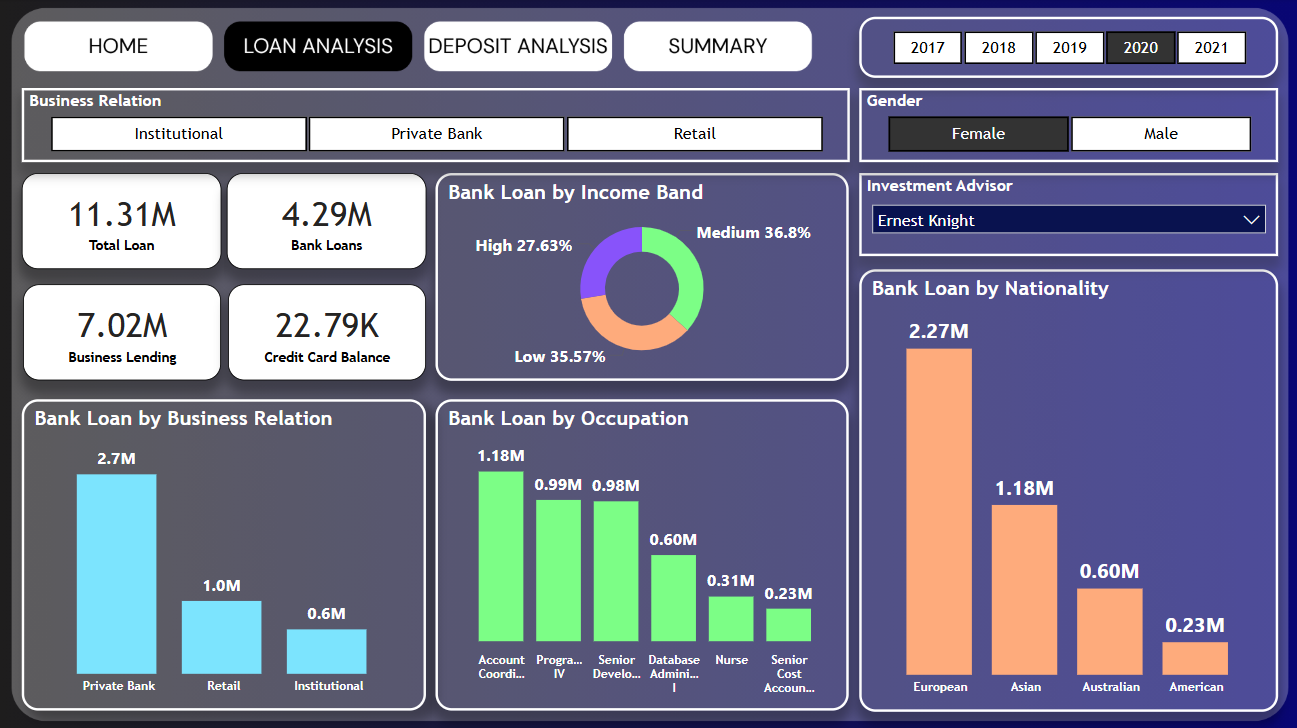

Layout of this report page (visuals, bound fields, positions):
{"tool":"powerbi","page":{"name":"Loan Analysis","canvas":[1280,720],"ordinal":1},"visuals":[{"type":"card","fields":{"Values":["Measures Table.Total Loan"]},"box":[22.9,171.4,195.7,94.3],"z":0},{"type":"card","fields":{"Values":["Sum(Banking.Business Lending)"]},"box":[24.3,281.4,194.3,94.3],"z":1000},{"type":"card","fields":{"Values":["Sum(Banking.Bank Loans)"]},"box":[224.3,171.4,195.7,94.3],"z":2000},{"type":"card","fields":{"Values":["Sum(Banking.Credit Card Balance)"]},"box":[225.7,281.4,194.3,94.3],"z":3000},{"type":"donutChart","title":"Bank Loan by Income Band","fields":{"Category":["Banking.Income Band"],"Y":["Sum(Banking.Bank Loans)"]},"box":[430,171.4,405.7,204.3],"z":4000},{"type":"clusteredColumnChart","title":"Bank Loan by Business Relation","fields":{"Y":["Sum(Banking.Bank Loans)"],"Category":["Banking.BRId"]},"box":[22.9,394.3,397.1,305.7],"z":5000},{"type":"clusteredColumnChart","title":"Bank Loan by Nationality","fields":{"Y":["Sum(Banking.Bank Loans)"],"Category":["Banking.Nationality"]},"box":[845.7,265.7,411.4,434.3],"z":6000},{"type":"clusteredColumnChart","title":"Bank Loan by Occupation","fields":{"Y":["Sum(Banking.Bank Loans)"],"Category":["Banking.Occupation"]},"box":[430,394.3,405.7,305.7],"z":7000},{"type":"slicer","title":"Business Relation","fields":{"Values":["Banking.BRId"]},"box":[22.9,88.6,812.9,72.9],"z":8000},{"type":"slicer","title":"Investment Advisor","fields":{"Values":["Banking.IAId"]},"box":[845.7,171.4,411.4,81.4],"z":9000},{"type":"slicer","fields":{"Values":["Banking.Year of Joining"]},"box":[845.7,18.6,411.4,60],"z":10000},{"type":"slicer","title":"Gender","fields":{"Values":["Banking.GenderId"]},"box":[845.7,88.6,411.4,72.9],"z":11000},{"type":"actionButton","box":[24.3,28.6,181.4,40],"z":12000},{"type":"actionButton","box":[225.7,28.6,181.4,40],"z":13000},{"type":"actionButton","box":[420,28.6,181.4,40],"z":14000},{"type":"actionButton","box":[615.7,28.6,181.4,40],"z":15000}]}

Visuals, with their boxes in screenshot pixels (x1, y1, x2, y2), scaled from the page's 1280x720 canvas onto the 1297x728 screenshot:
card - Measures Table.Total Loan: [left=23, top=173, right=222, bottom=269]
card - Sum(Banking.Business Lending): [left=25, top=285, right=222, bottom=380]
card - Sum(Banking.Bank Loans): [left=227, top=173, right=426, bottom=269]
card - Sum(Banking.Credit Card Balance): [left=229, top=285, right=426, bottom=380]
"Bank Loan by Income Band" donutChart: [left=436, top=173, right=847, bottom=380]
"Bank Loan by Business Relation" clusteredColumnChart: [left=23, top=399, right=426, bottom=708]
"Bank Loan by Nationality" clusteredColumnChart: [left=857, top=269, right=1274, bottom=708]
"Bank Loan by Occupation" clusteredColumnChart: [left=436, top=399, right=847, bottom=708]
"Business Relation" slicer: [left=23, top=90, right=847, bottom=163]
"Investment Advisor" slicer: [left=857, top=173, right=1274, bottom=256]
slicer - Banking.Year of Joining: [left=857, top=19, right=1274, bottom=79]
"Gender" slicer: [left=857, top=90, right=1274, bottom=163]
actionButton: [left=25, top=29, right=208, bottom=69]
actionButton: [left=229, top=29, right=413, bottom=69]
actionButton: [left=426, top=29, right=609, bottom=69]
actionButton: [left=624, top=29, right=808, bottom=69]
